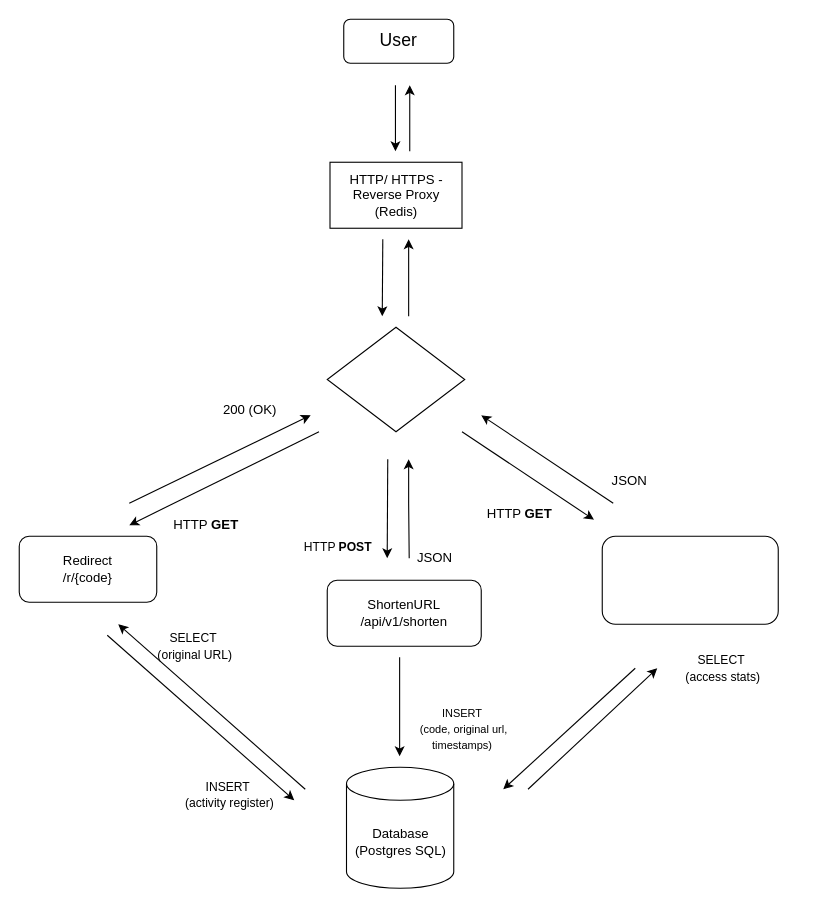
This 820x908 diagram has some shape labels left out. Here are the shapes that lost their labels. From the top down, the centre of each, then its label:
At (395,379): "Service Layer (FastAPI)".
At (689,579): "Retrieve Link Statistics /api/v1/stats/{code}".
